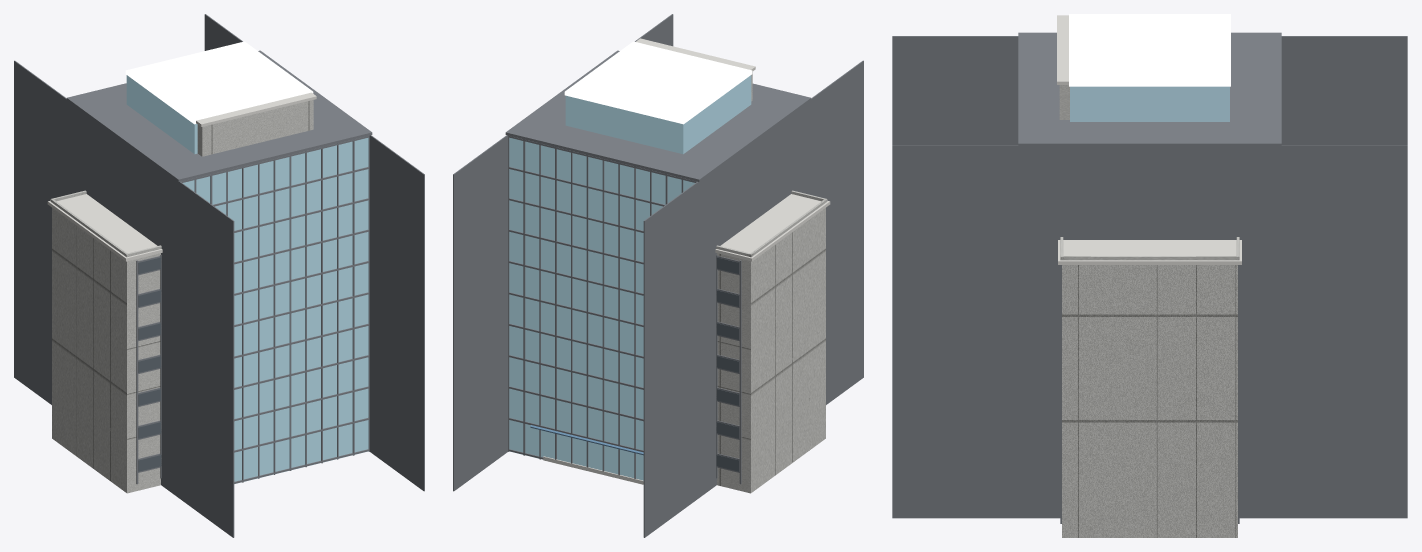
Rendered from city.glb.
The picture shows the model from 3 angles, left to right: view 1: azimuth 30°, elevation 25°; view 2: azimuth 150°, elevation 25°; view 3: azimuth 270°, elevation 25°; orthographic projection. The views are drawn at different scales.
Parts seen in each view (by area): view 1: bldg_glass_tower, bldg_office_slab, bldg_tower_setback; view 2: bldg_glass_tower, bldg_office_slab, bldg_tower_setback, bldg_bank; view 3: bldg_glass_tower, bldg_office_slab, bldg_tower_setback.
Boxes of the visible parts, box(x1,y1,x2,y2) form: bldg_glass_tower: box(14, 14, 424, 537); bldg_office_slab: box(47, 190, 162, 493); bldg_tower_setback: box(196, 92, 316, 156); bldg_glass_tower: box(453, 14, 863, 537); bldg_office_slab: box(715, 190, 830, 493); bldg_tower_setback: box(636, 38, 755, 101); bldg_bank: box(543, 456, 643, 484); bldg_glass_tower: box(892, 14, 1407, 518); bldg_office_slab: box(1058, 237, 1241, 537); bldg_tower_setback: box(1057, 15, 1069, 119).
Bounding box in the file's own units: 26.55 × 33.82 × 38.
48 materials, 24 textured.
